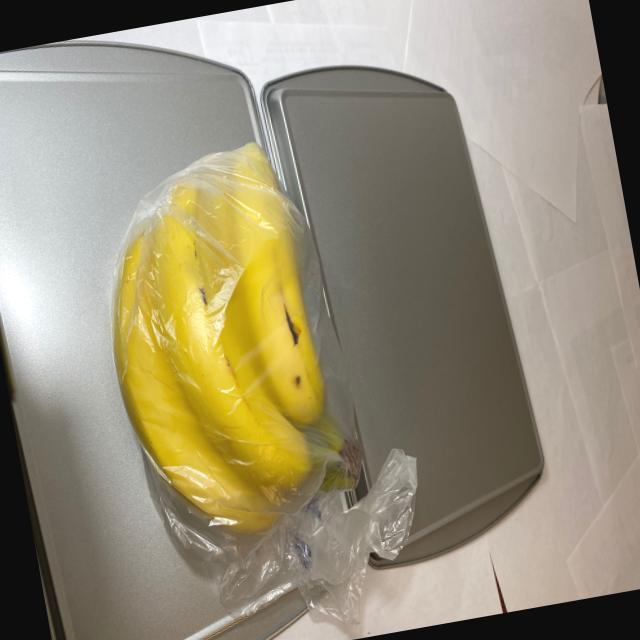banana: (74, 128, 386, 556)
